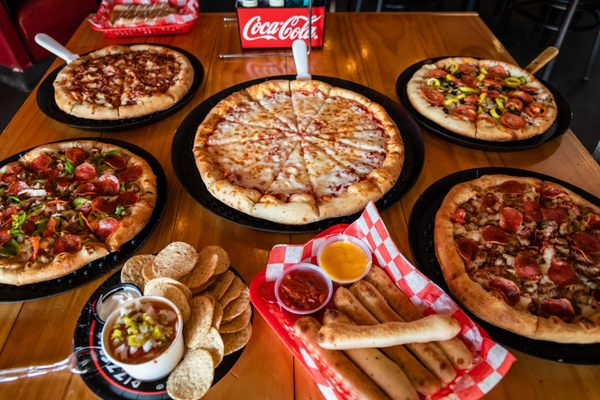pizza: (275, 263, 334, 319), (313, 233, 374, 286)
